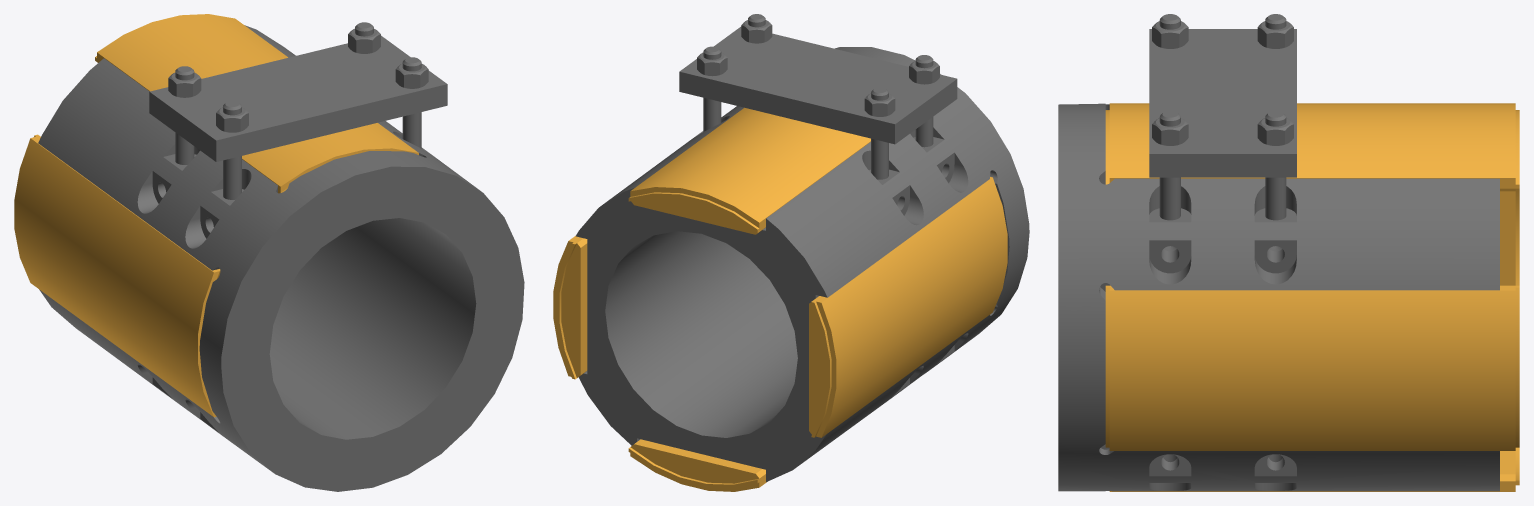
File: equipment_2.glb
3 renders of one model, left to right at view 1: azimuth 30°, elevation 25°; view 2: azimuth 150°, elevation 25°; view 3: azimuth 270°, elevation 25°, orthographic. The views are drawn at different scales.
Visible parts, largest first — view 1: Mesh_5, Mesh_1, Mesh_3, Mesh_8, Mesh_10, Mesh_9, Mesh_7, Mesh_12, Mesh_6, Mesh_0, Mesh_13; view 2: Mesh_5, Mesh_1, Mesh_3, Mesh_8, Mesh_11, Mesh_2, Mesh_7, Mesh_4, Mesh_10, Mesh_12, Mesh_6, Mesh_13 (+1 smaller); view 3: Mesh_5, Mesh_11, Mesh_8, Mesh_3, Mesh_1, Mesh_4, Mesh_9, Mesh_2, Mesh_12, Mesh_0, Mesh_6, Mesh_13.
Boxes of the visible parts, x1,y1,x2,y2 form: Mesh_5: [38, 25, 524, 491]; Mesh_1: [14, 134, 220, 417]; Mesh_3: [149, 35, 447, 161]; Mesh_8: [95, 14, 418, 193]; Mesh_10: [223, 101, 241, 199]; Mesh_9: [402, 57, 421, 148]; Mesh_7: [175, 66, 194, 164]; Mesh_12: [168, 72, 201, 97]; Mesh_6: [395, 63, 428, 88]; Mesh_0: [348, 28, 380, 53]; Mesh_13: [216, 107, 248, 132]; Mesh_5: [576, 47, 1029, 481]; Mesh_1: [809, 177, 1007, 437]; Mesh_3: [679, 26, 957, 144]; Mesh_8: [628, 107, 870, 234]; Mesh_11: [553, 236, 587, 379]; Mesh_2: [628, 439, 766, 491]; Mesh_7: [871, 87, 888, 179]; Mesh_4: [703, 46, 721, 131]; Mesh_10: [915, 55, 933, 147]; Mesh_12: [864, 93, 895, 116]; Mesh_6: [741, 20, 772, 43]; Mesh_13: [909, 61, 939, 84]; Mesh_5: [1058, 103, 1499, 491]; Mesh_11: [1105, 285, 1519, 450]; Mesh_8: [1105, 103, 1519, 191]; Mesh_3: [1149, 29, 1296, 177]; Mesh_1: [1500, 188, 1519, 285]; Mesh_4: [1265, 111, 1286, 220]; Mesh_9: [1159, 111, 1180, 220]; Mesh_2: [1109, 447, 1519, 491]; Mesh_12: [1257, 21, 1293, 48]; Mesh_0: [1257, 118, 1293, 145]; Mesh_6: [1152, 118, 1188, 145]; Mesh_13: [1152, 21, 1188, 48].
Bounding box in the file's own units: 0.2938 × 0.3409 × 0.35.
